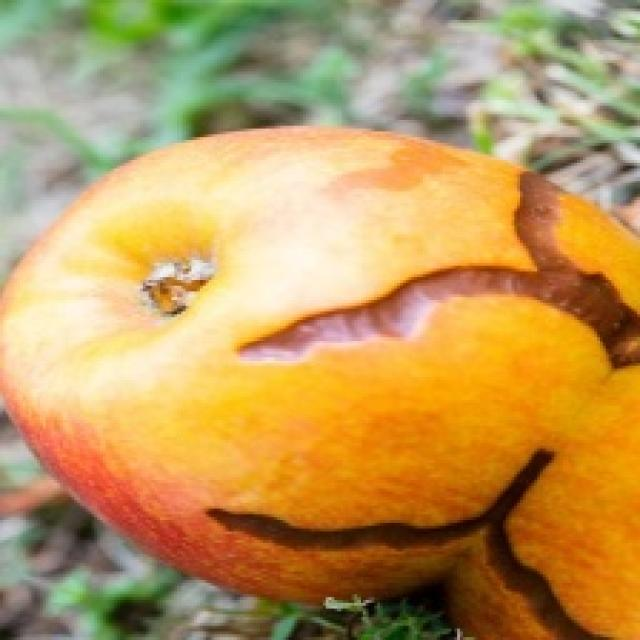rotten_apple: (2, 134, 614, 556)
